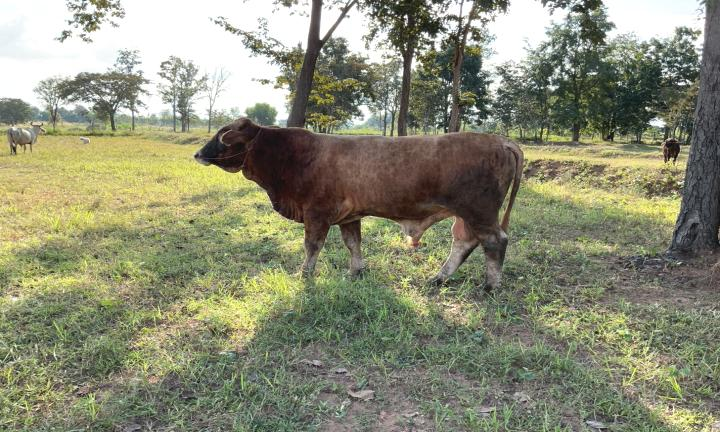Charolais: (195, 118, 523, 289)
